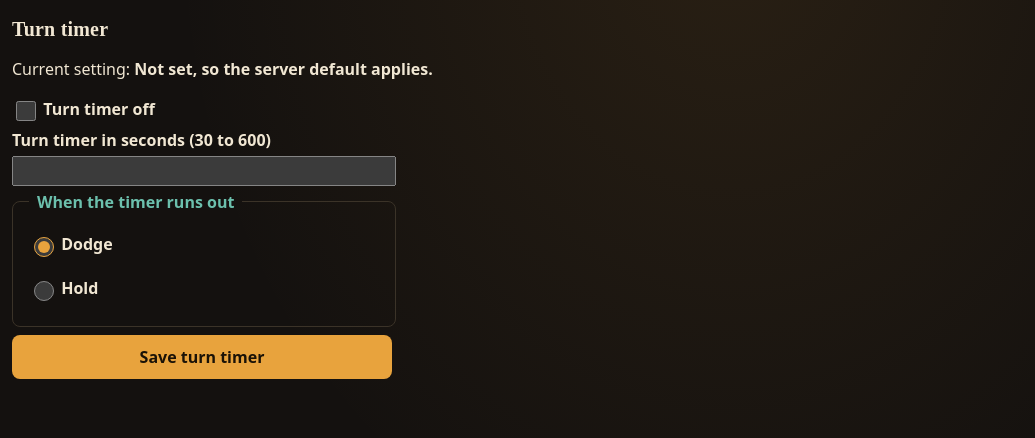
TurnTimerControl › sends ConfigureTurnTimer with the millisecond duration and chosen action
Type "75" into the number field labelled "Turn timer in seconds (30 to 600)".
click(204, 171); type("75")  # box [12,156,396,186]
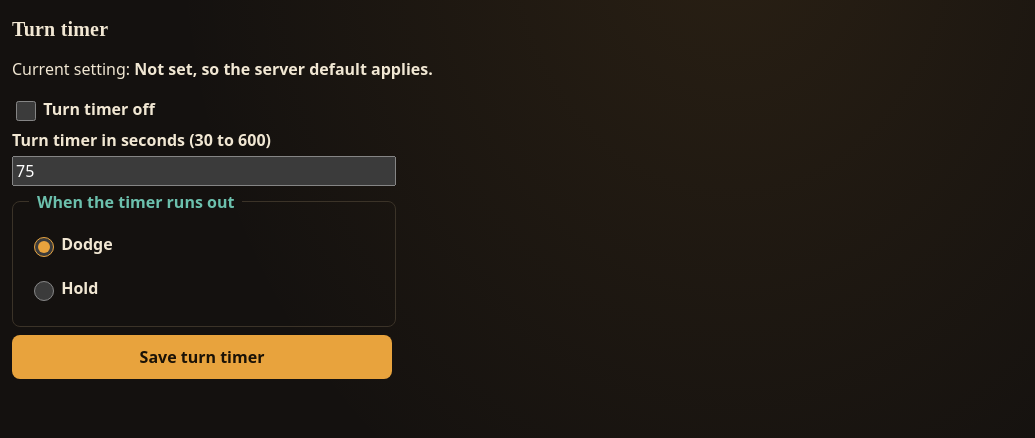
Click the radio button labelled "Hold".
click(44, 291)  # box [34,281,54,301]
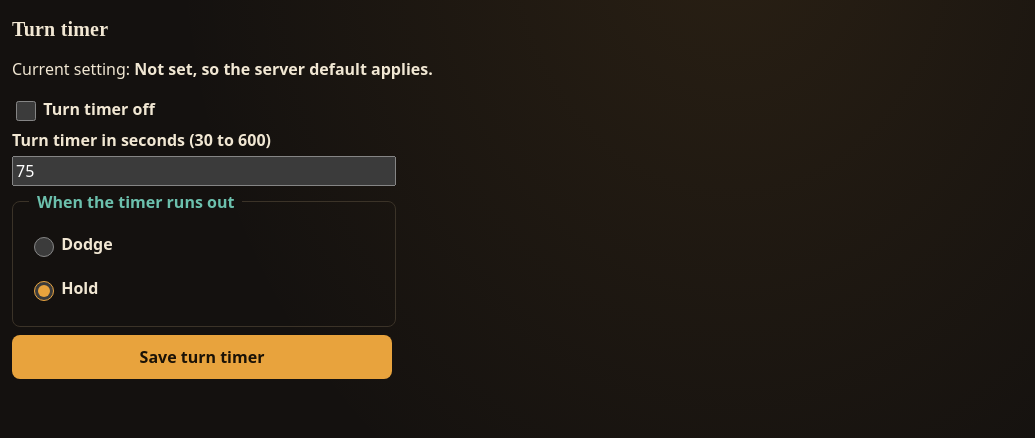
Click the button "Save turn timer".
click(202, 357)  # box [12,335,392,379]
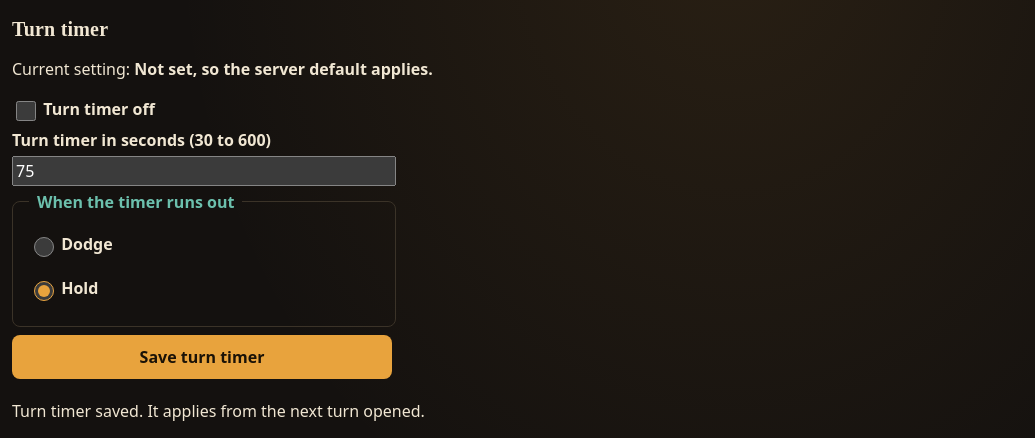
Now the message reads "Turn timer saved. It applies from the next turn opened.", box [12,400,425,422]
